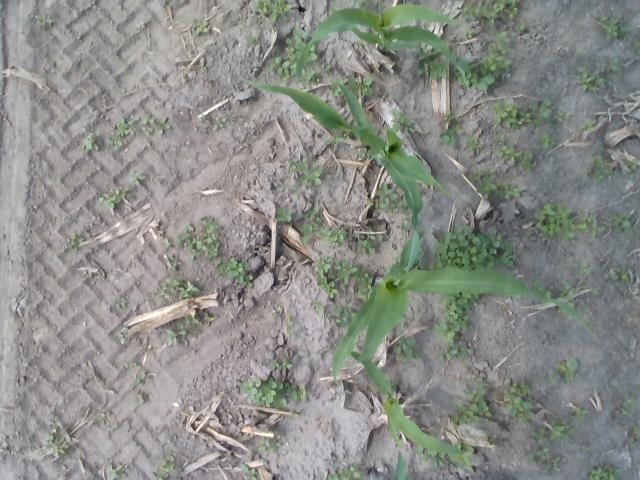Maize: (238, 75, 454, 274), (332, 266, 599, 384), (295, 0, 471, 92), (350, 350, 470, 480)
Weeds: (430, 224, 506, 270), (434, 292, 478, 346), (534, 204, 575, 241), (239, 378, 284, 408), (176, 232, 220, 261), (217, 257, 254, 288), (528, 448, 562, 474), (456, 402, 491, 426), (462, 4, 498, 26), (450, 442, 474, 472), (610, 212, 638, 232), (391, 110, 416, 132), (100, 188, 126, 209), (268, 0, 292, 22), (255, 431, 281, 451), (349, 76, 374, 96), (337, 260, 357, 285), (588, 465, 620, 480), (298, 165, 322, 185), (598, 16, 618, 40), (338, 462, 364, 480), (503, 389, 520, 416), (393, 336, 417, 355), (476, 73, 496, 94), (356, 273, 372, 299), (296, 42, 318, 60), (284, 382, 306, 400), (300, 225, 321, 243), (413, 446, 431, 466), (470, 377, 490, 395), (180, 280, 200, 298), (333, 302, 354, 319), (462, 386, 484, 402), (477, 176, 496, 194), (312, 256, 333, 272), (430, 62, 448, 80), (570, 406, 587, 425), (575, 71, 591, 91), (166, 329, 186, 345), (200, 216, 220, 232), (314, 269, 334, 285), (612, 264, 628, 284), (494, 101, 507, 125), (538, 98, 552, 120), (114, 118, 131, 136), (84, 131, 100, 150), (330, 228, 346, 247), (241, 463, 258, 480), (154, 117, 171, 134), (128, 170, 146, 186), (162, 276, 180, 292), (440, 128, 456, 146), (565, 358, 578, 380), (310, 297, 325, 316), (278, 60, 297, 74), (536, 132, 552, 148), (530, 429, 547, 444), (162, 456, 179, 471), (324, 136, 342, 150), (327, 314, 348, 326), (504, 243, 514, 268), (331, 77, 344, 96), (438, 349, 458, 361), (276, 207, 292, 222), (72, 230, 84, 250), (324, 280, 336, 299), (376, 182, 392, 196), (504, 184, 520, 198), (560, 284, 576, 298), (461, 342, 474, 359), (504, 148, 521, 161), (55, 439, 68, 456), (36, 15, 56, 26), (494, 0, 516, 10), (550, 426, 565, 440), (212, 116, 226, 131), (304, 205, 319, 219), (592, 221, 606, 236), (496, 55, 512, 68), (480, 57, 496, 70), (607, 56, 620, 72), (359, 239, 375, 252), (286, 38, 295, 61), (418, 47, 435, 59), (580, 120, 597, 132), (574, 262, 591, 274), (412, 346, 426, 360), (184, 314, 198, 328), (396, 218, 410, 232), (530, 278, 546, 290), (106, 138, 122, 150), (360, 229, 376, 241), (519, 398, 532, 412), (630, 424, 640, 442), (110, 465, 122, 480), (493, 31, 509, 42), (119, 327, 129, 344), (197, 22, 210, 35), (622, 394, 636, 406), (614, 408, 626, 422), (520, 381, 532, 395), (308, 72, 322, 84), (554, 110, 568, 122), (133, 372, 145, 386), (115, 298, 129, 310), (279, 358, 293, 370), (388, 202, 402, 214), (576, 222, 590, 234), (504, 6, 517, 18), (417, 63, 429, 76), (167, 258, 180, 270), (507, 104, 518, 118), (496, 146, 511, 156), (276, 397, 288, 409), (466, 72, 479, 83), (257, 0, 267, 14), (505, 117, 516, 129), (520, 111, 531, 123), (467, 138, 478, 150), (592, 155, 604, 166), (602, 164, 614, 175), (580, 210, 591, 222), (245, 34, 258, 44), (152, 289, 168, 297), (520, 412, 532, 422), (438, 452, 446, 467), (302, 69, 314, 79), (634, 36, 640, 56), (288, 408, 300, 418), (320, 228, 330, 240), (402, 197, 409, 214), (293, 28, 302, 41), (431, 452, 438, 468), (418, 246, 426, 260), (129, 115, 140, 125), (286, 159, 296, 170), (379, 197, 389, 208), (592, 171, 602, 182), (555, 364, 567, 373), (369, 150, 381, 159), (501, 42, 510, 54), (270, 305, 282, 314), (596, 74, 604, 87), (524, 162, 534, 172), (488, 42, 498, 52), (204, 314, 214, 324), (192, 328, 202, 338), (157, 469, 166, 480), (142, 116, 154, 124), (490, 51, 500, 60), (596, 59, 606, 68), (528, 100, 538, 109), (454, 124, 463, 134), (471, 172, 480, 182), (46, 433, 54, 444), (286, 315, 294, 326), (270, 359, 278, 370), (444, 114, 452, 124), (128, 193, 138, 201), (184, 224, 194, 232), (164, 238, 172, 248), (312, 216, 322, 224), (550, 419, 561, 426), (53, 428, 60, 439), (454, 414, 459, 429), (353, 0, 368, 5), (626, 406, 635, 414), (326, 474, 338, 480), (302, 29, 310, 38), (513, 24, 525, 30), (620, 28, 632, 34), (532, 119, 544, 125), (590, 286, 598, 295), (510, 382, 517, 392), (142, 128, 153, 134), (125, 363, 138, 368), (398, 353, 406, 361), (274, 56, 282, 64), (298, 162, 306, 170), (97, 412, 105, 420), (266, 65, 275, 72), (550, 374, 560, 380), (576, 67, 586, 73), (588, 86, 600, 91), (138, 394, 144, 404), (498, 135, 506, 142), (303, 154, 310, 162), (390, 194, 398, 201), (493, 70, 501, 77), (375, 234, 382, 242), (590, 212, 598, 219), (466, 30, 472, 39), (540, 301, 550, 306), (374, 198, 379, 208), (323, 63, 330, 70), (568, 301, 576, 307), (562, 422, 570, 428), (524, 154, 532, 160), (201, 63, 207, 71), (282, 76, 290, 82), (360, 152, 368, 158), (123, 469, 129, 477), (176, 322, 184, 328), (288, 330, 294, 338), (392, 256, 400, 262), (497, 180, 506, 185), (545, 291, 552, 297), (570, 428, 576, 435), (125, 186, 132, 192), (290, 188, 298, 193), (50, 414, 60, 418), (586, 168, 592, 174), (509, 142, 516, 147), (574, 50, 582, 54), (582, 446, 588, 451), (631, 163, 636, 169), (632, 158, 638, 163), (344, 132, 349, 138), (576, 22, 582, 27), (626, 161, 632, 166), (454, 114, 459, 120), (200, 114, 204, 121), (114, 421, 118, 428), (467, 134, 472, 139), (368, 202, 374, 206), (362, 6, 368, 10), (480, 170, 484, 176), (564, 434, 569, 438), (488, 438, 493, 442), (518, 120, 522, 124), (552, 141, 556, 145)
